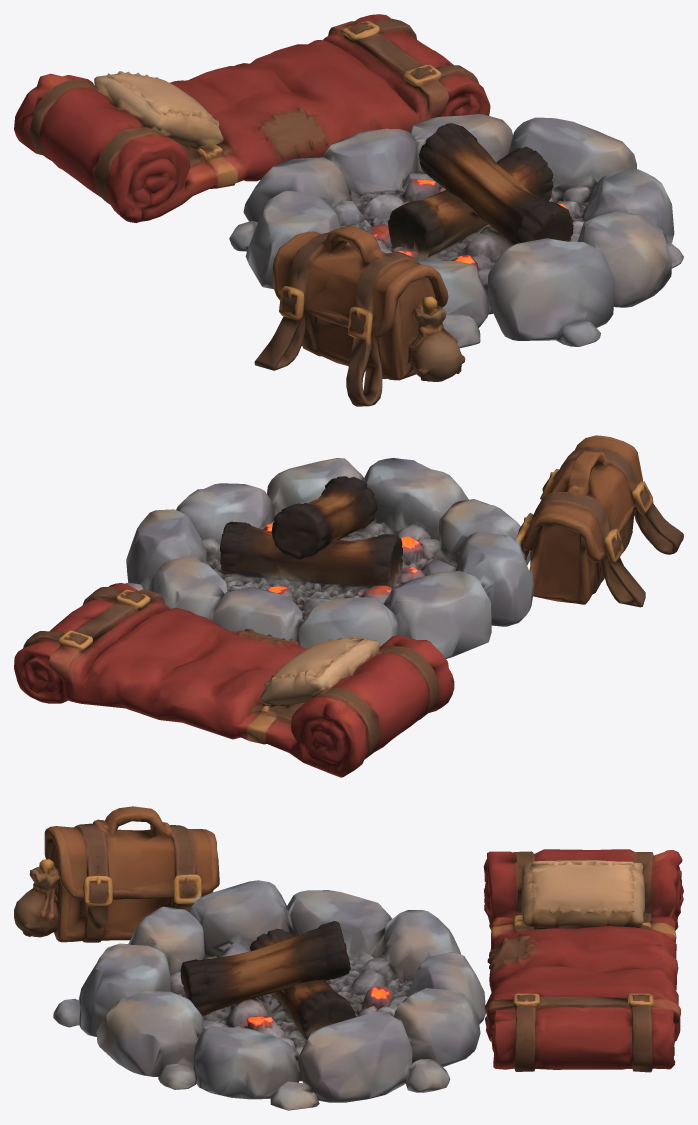
File: pro_campfire-DXpkDajd.glb
The picture shows the model from 3 angles, top to bottom: view 1: azimuth 30°, elevation 25°; view 2: azimuth 150°, elevation 25°; view 3: azimuth 270°, elevation 25°; orthographic projection. The views are drawn at different scales.
Visible parts, largest first — view 1: tripo_node_be372e88-f5fa-4cb3-8176-859c2e398428; view 2: tripo_node_be372e88-f5fa-4cb3-8176-859c2e398428; view 3: tripo_node_be372e88-f5fa-4cb3-8176-859c2e398428.
Boxes of the visible parts, left/top/right/bottom form: tripo_node_be372e88-f5fa-4cb3-8176-859c2e398428: left=14, top=14, right=683, bottom=406; tripo_node_be372e88-f5fa-4cb3-8176-859c2e398428: left=14, top=435, right=683, bottom=777; tripo_node_be372e88-f5fa-4cb3-8176-859c2e398428: left=14, top=806, right=683, bottom=1110.
Size of the model in its own units: 0.7621 by 0.2017 by 0.9997.
Materials: 1 (1 with a texture image).
